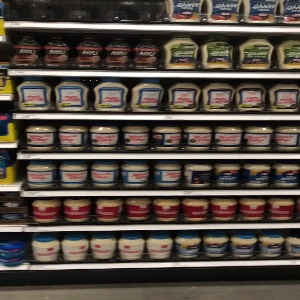void: (8, 1, 166, 24)
